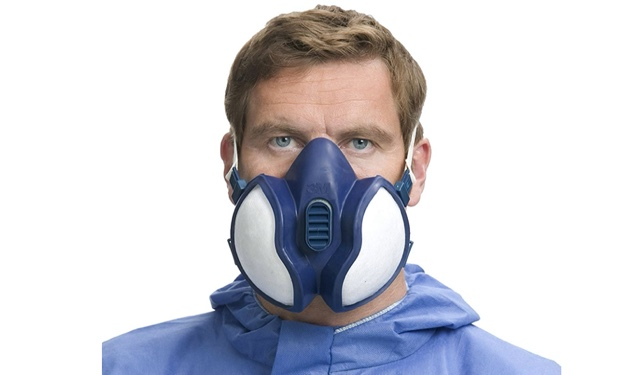with_mask: (207, 16, 440, 316)
